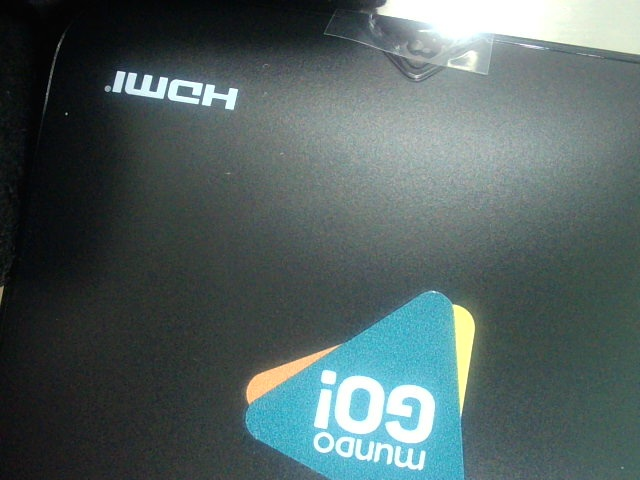AP_IPGMundoGO: (226, 290, 486, 479)
